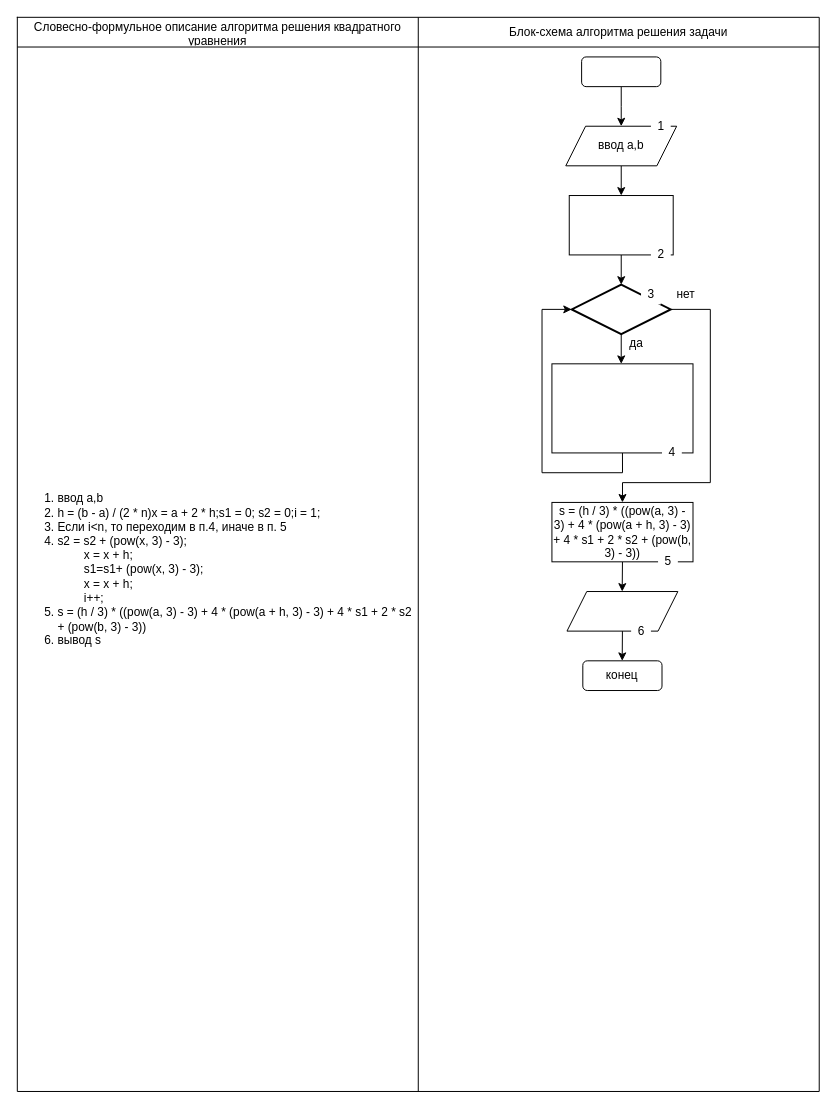
The diagram is 837 pixels wide and 1109 high, and some of its shapes have lost their labels. The shapes that lost their labels are listed below. From the top down, each one's box as (x1, y1, x2, y2) in pixels, then its label:
(581, 56, 661, 87): начало
(568, 195, 673, 255): h = (b - a) / (2 * n)x = a + 2 * h; s1 = 0; s2 = 0; i = 1;
(570, 283, 671, 335): i<n
(551, 363, 693, 453): s2 = s2 + (pow(x, 3) - 3); x = x + h; s1=s1+ (pow(x, 3) - 3); x = x + h; i++;
(566, 591, 678, 631): вывод s
